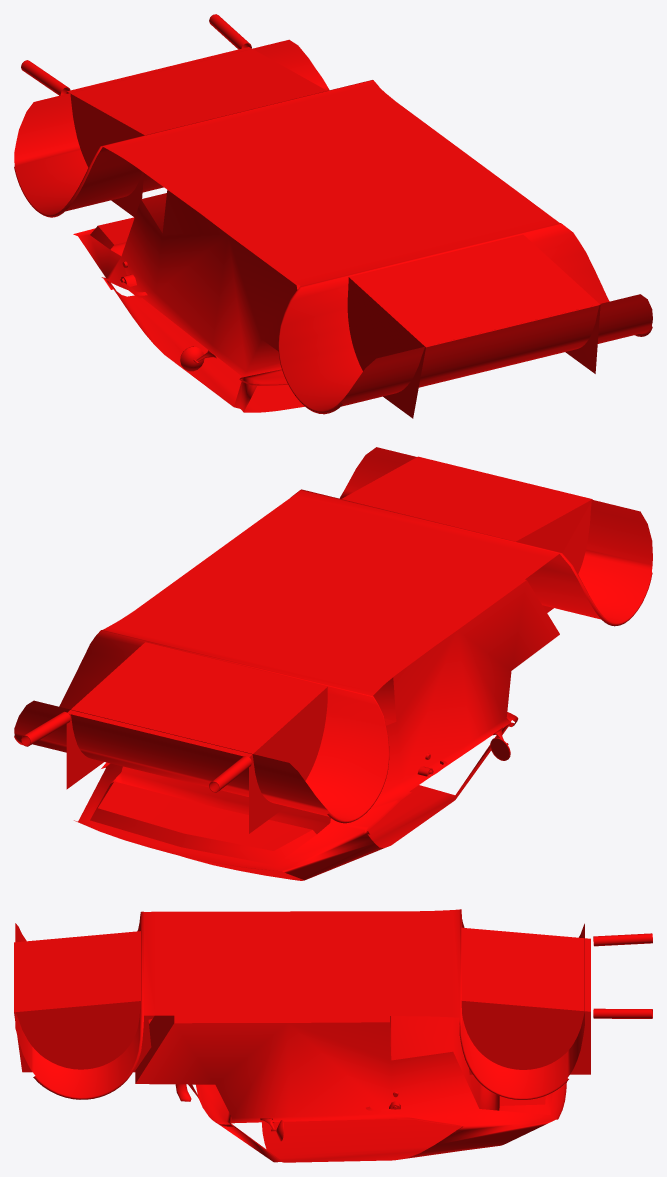
The model's file is Camaro_Chassis_Trim.fbx.
3 views of the same model, one above another, from view 1: azimuth 30°, elevation 25°; view 2: azimuth 150°, elevation 25°; view 3: azimuth 270°, elevation 25° (orthographic). The views are drawn at different scales.
Visible parts, largest first — view 1: Camaro_Chassis_Trim; view 2: Camaro_Chassis_Trim; view 3: Camaro_Chassis_Trim.
Part boxes in pixels (x1,y1,x2,y2): Camaro_Chassis_Trim: (14,14,652,418); Camaro_Chassis_Trim: (14,447,652,880); Camaro_Chassis_Trim: (14,909,652,1162).
Bounding box in the file's own units: 1.95 × 3.97 × 1.1.
